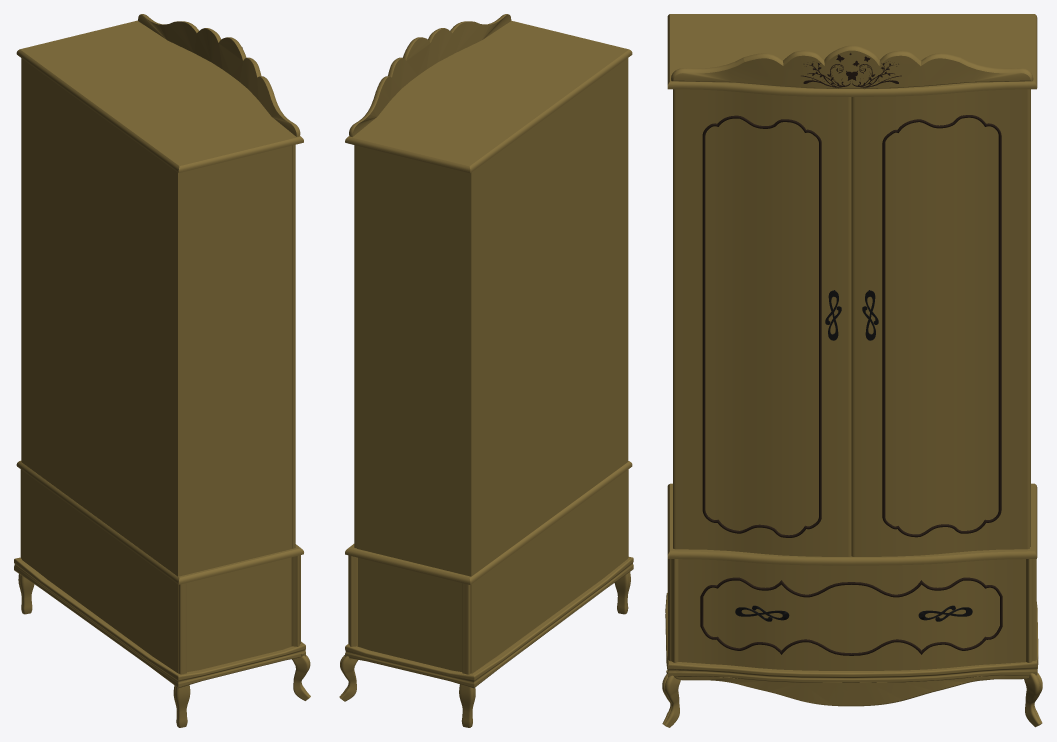
The model's file is wardrobe1.FBX.
The picture shows the model from 3 angles, left to right: view 1: azimuth 30°, elevation 25°; view 2: azimuth 150°, elevation 25°; view 3: azimuth 270°, elevation 25°; orthographic projection. The views are drawn at different scales.
Parts seen in each view (by area): view 1: Rectangle1, Shape09, Rectangle2, Rectangle5, Loft28, Rectangle0, Rectangle3, Loft29, Loft30, Loft32, Loft31; view 2: Rectangle1, Shape09, Rectangle2, Rectangle5, Loft28, Rectangle0, Rectangle4, Loft27, Loft26, Loft25, Loft24, Loft31; view 3: Rectangle3, Rectangle4, Shape09, Rectangle2, Rectangle5, Loft28, Rectangle0, Rectangle6, Rectangle8, Rectangle7, Rectangle9, Loft29 (+4 smaller).
Boxes of the visible parts, left/top/right/bottom form: Rectangle1: left=21, top=58, right=292, bottom=576; Shape09: left=21, top=470, right=291, bottom=673; Rectangle2: left=16, top=20, right=303, bottom=172; Rectangle5: left=138, top=14, right=300, bottom=136; Loft28: left=14, top=557, right=305, bottom=688; Rectangle0: left=16, top=460, right=303, bottom=584; Rectangle3: left=292, top=144, right=295, bottom=548; Loft29: left=291, top=555, right=300, bottom=646; Loft30: left=178, top=583, right=186, bottom=674; Loft32: left=292, top=655, right=310, bottom=700; Loft31: left=173, top=685, right=190, bottom=727; Rectangle1: left=357, top=58, right=628, bottom=576; Shape09: left=357, top=470, right=627, bottom=673; Rectangle2: left=345, top=20, right=632, bottom=173; Rectangle5: left=349, top=14, right=511, bottom=136; Loft28: left=345, top=557, right=633, bottom=688; Rectangle0: left=345, top=461, right=632, bottom=584; Rectangle4: left=354, top=145, right=356, bottom=548; Loft27: left=348, top=555, right=357, bottom=646; Loft26: left=462, top=583, right=470, bottom=674; Loft25: left=339, top=655, right=357, bottom=701; Loft24: left=459, top=684, right=475, bottom=727; Loft31: left=614, top=572, right=630, bottom=614; Rectangle3: left=673, top=89, right=851, bottom=556; Rectangle4: left=851, top=89, right=1029, bottom=556; Shape09: left=678, top=559, right=1025, bottom=670; Rectangle2: left=667, top=14, right=1037, bottom=96; Rectangle5: left=671, top=45, right=1033, bottom=88; Loft28: left=665, top=593, right=1038, bottom=682; Rectangle0: left=667, top=483, right=1037, bottom=565; Rectangle6: left=666, top=670, right=1029, bottom=706; Rectangle8: left=882, top=115, right=1001, bottom=537; Rectangle7: left=702, top=115, right=821, bottom=537; Rectangle9: left=700, top=577, right=1002, bottom=655; Loft29: left=667, top=559, right=678, bottom=662.
Bounding box in the file's own units: 529 × 2087 × 1051.
